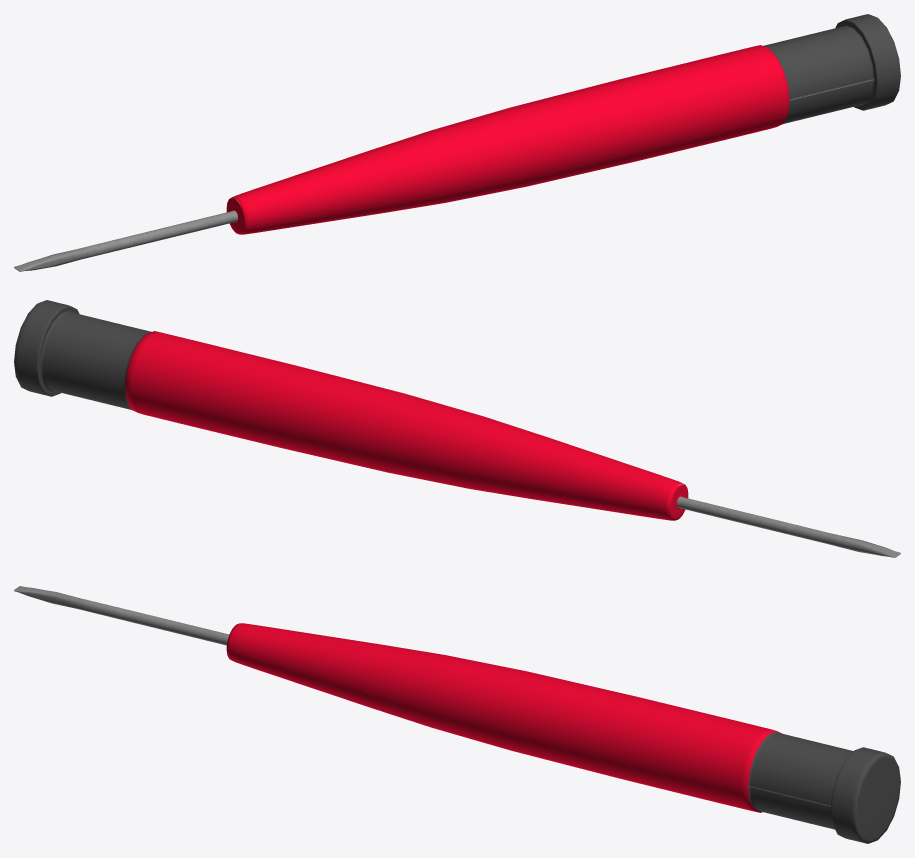
Rendered from Screw driver tool.fbx.
3 views of the same model, one above another, from view 1: azimuth 30°, elevation 25°; view 2: azimuth 150°, elevation 25°; view 3: azimuth 330°, elevation 25° (orthographic).
Parts seen in each view (by area): view 1: Cylinder.003; view 2: Cylinder.003; view 3: Cylinder.003.
Boxes of the visible parts, <box> form: Cylinder.003: <box>14,14,900,271</box>; Cylinder.003: <box>14,300,900,557</box>; Cylinder.003: <box>14,586,900,843</box>.
Bounding box in the file's own units: 176 × 16.58 × 16.58.
Materials: 1 (1 with a texture image).
